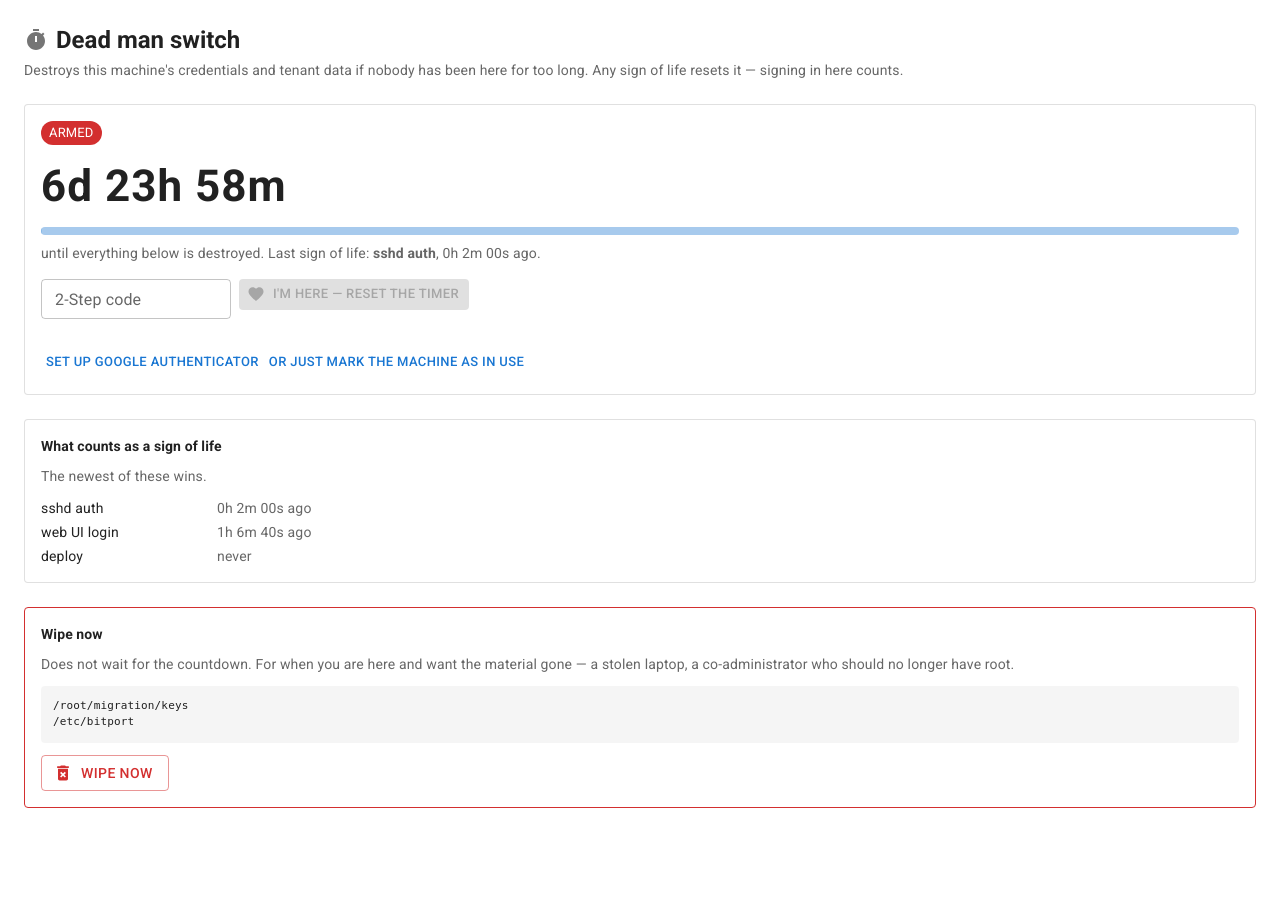
Scenario: resetting the timer › surfaces a refusal rather than looking like it reset
Click the button with test id "deadman-touch". click: (396, 362)
box: left=264, top=347, right=529, bottom=378
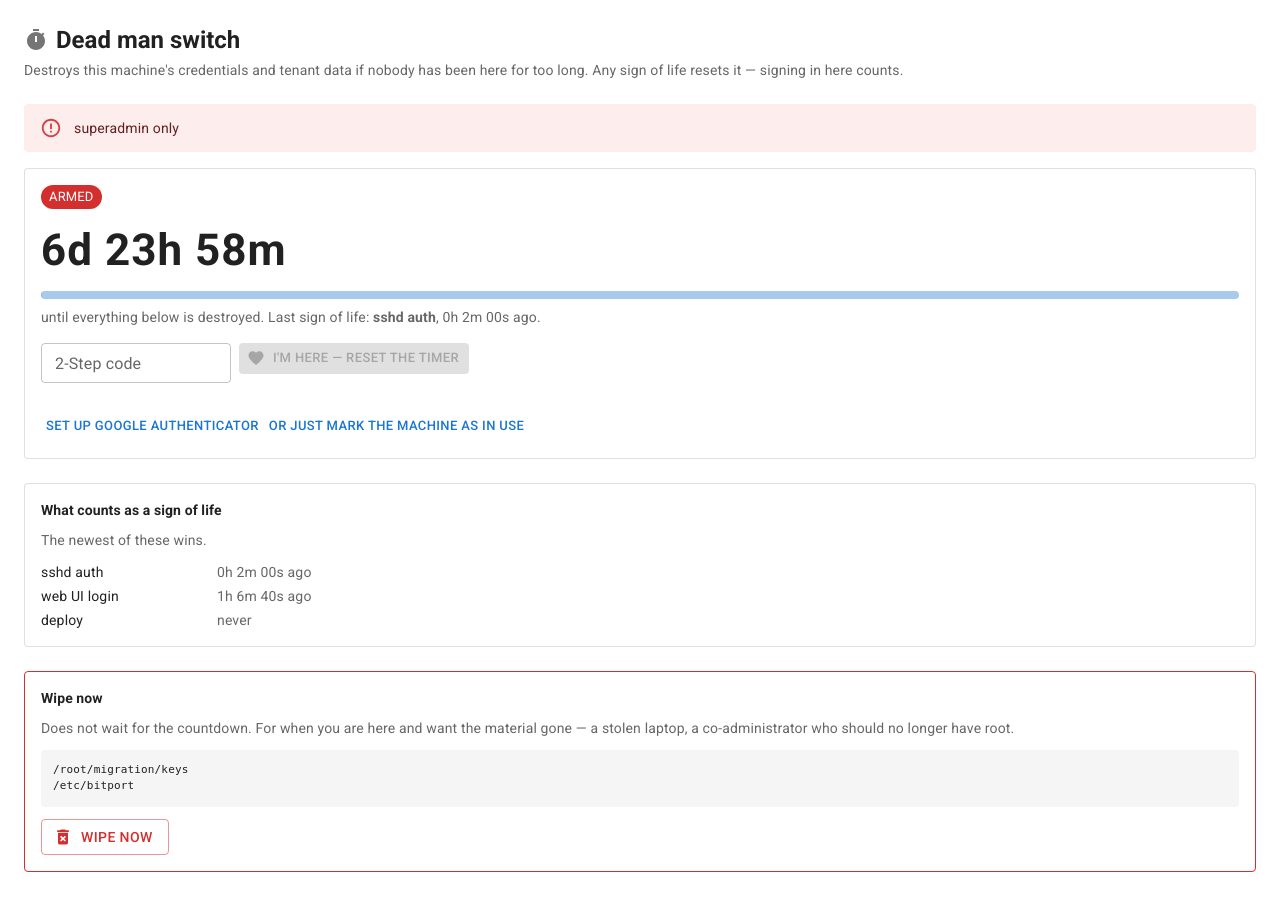
Check: the message with test id "deadman-error" reads "superadmin only", box left=74, top=120, right=179, bottom=136
